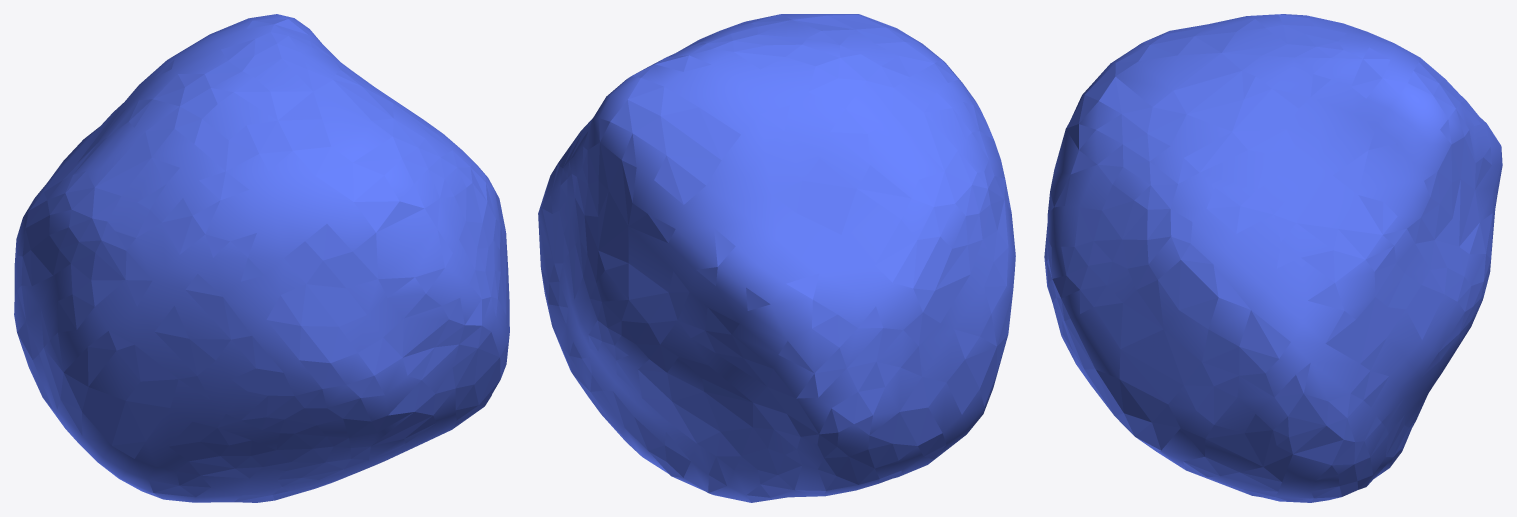
Rendered from blue_rock_small.dae.
The picture shows the model from 3 angles, left to right: view 1: azimuth 30°, elevation 25°; view 2: azimuth 150°, elevation 25°; view 3: azimuth 270°, elevation 25°; orthographic projection. The views are drawn at different scales.
Visible parts, largest first — view 1: Rock_048_Cube_063; view 2: Rock_048_Cube_063; view 3: Rock_048_Cube_063.
Boxes of the visible parts, x1,y1,x2,y2 form: Rock_048_Cube_063: (14, 14, 509, 502); Rock_048_Cube_063: (538, 14, 1015, 502); Rock_048_Cube_063: (1044, 14, 1502, 502).
Bounding box in the file's own units: 0.3246 × 0.293 × 0.3032.
